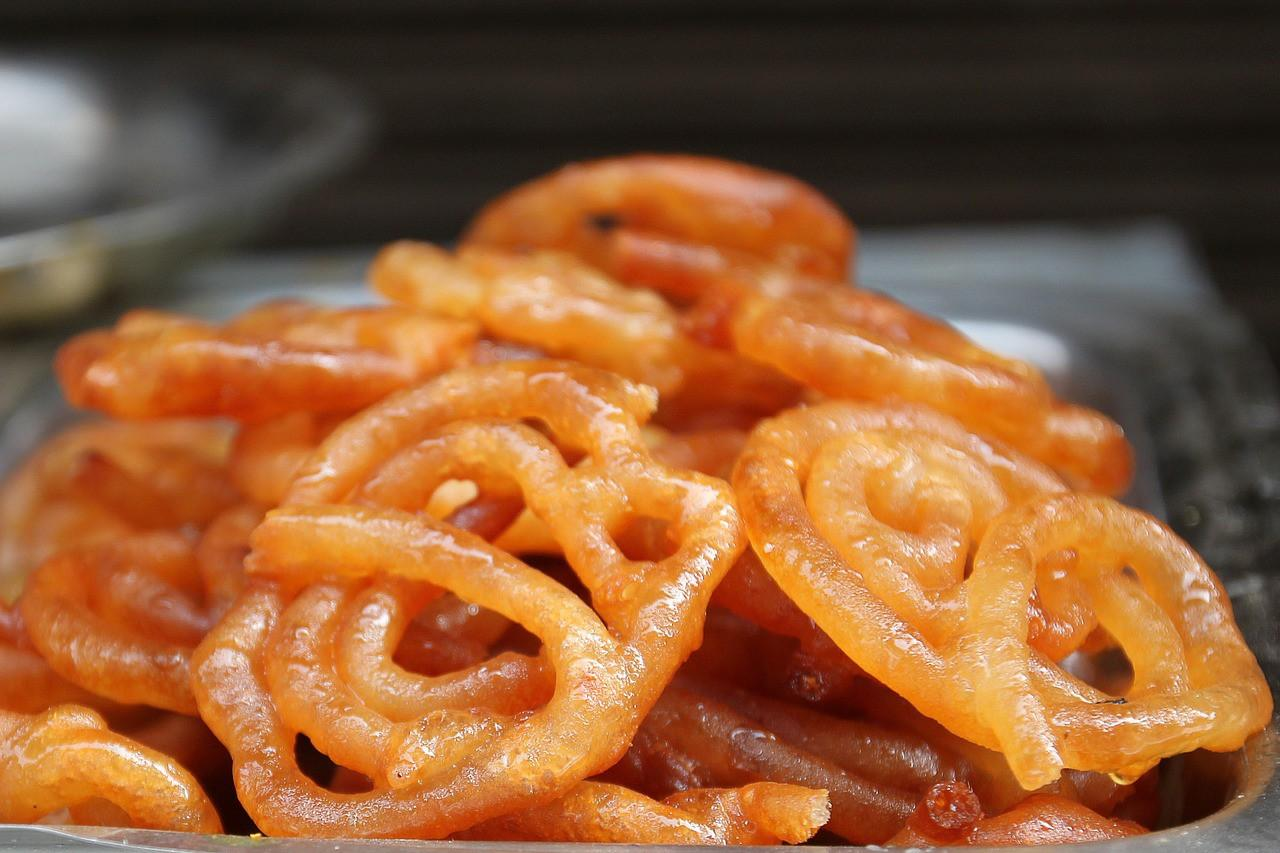Jalebi: (0, 159, 1280, 853)
